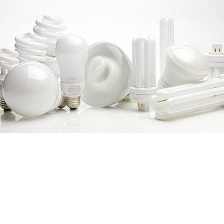light_bulb: (73, 39, 142, 112), (0, 57, 69, 119), (146, 70, 224, 123), (151, 40, 210, 103), (29, 12, 70, 100), (53, 30, 90, 113), (127, 30, 160, 114), (14, 29, 49, 106), (155, 12, 178, 102), (0, 44, 21, 118), (200, 40, 223, 94)
